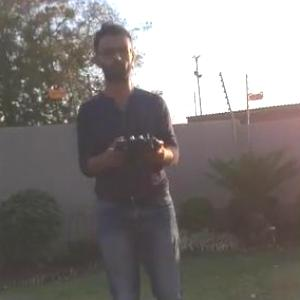follow: (70, 15, 188, 299)
